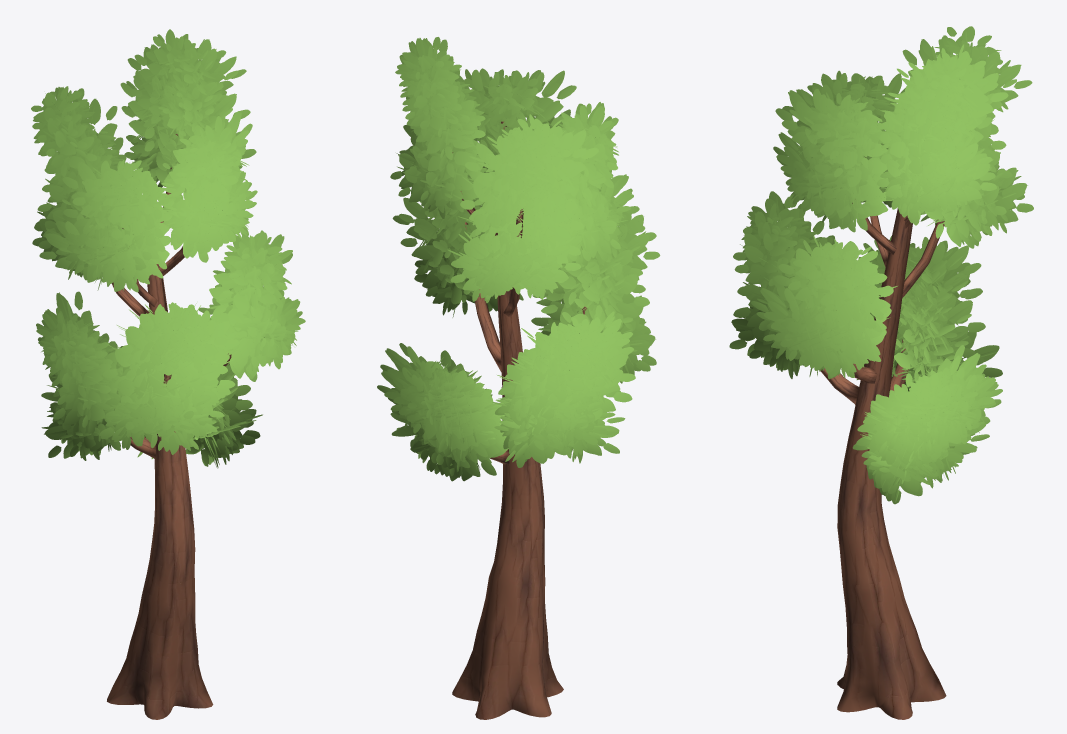
Rendered from nkcommon3.glb.
The picture shows the model from 3 angles, left to right: view 1: azimuth 30°, elevation 25°; view 2: azimuth 150°, elevation 25°; view 3: azimuth 270°, elevation 25°; orthographic projection. The views are drawn at different scales.
Visible parts, largest first — view 1: CommonTree_3; view 2: CommonTree_3; view 3: CommonTree_3.
Part boxes in pixels (left/top/right/bottom): CommonTree_3: left=31, top=29, right=305, bottom=719; CommonTree_3: left=377, top=37, right=660, bottom=719; CommonTree_3: left=729, top=26, right=1033, bottom=719.
Bounding box in the file's own units: 4.06 × 9.43 × 4.24.
Materials: 2 (2 with a texture image).
